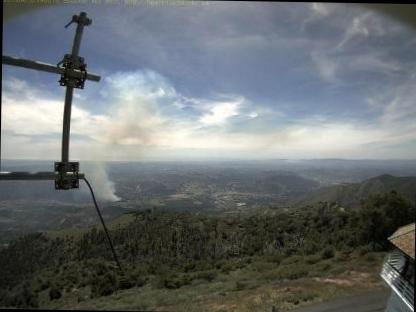Smoke: (81, 95, 159, 201)
